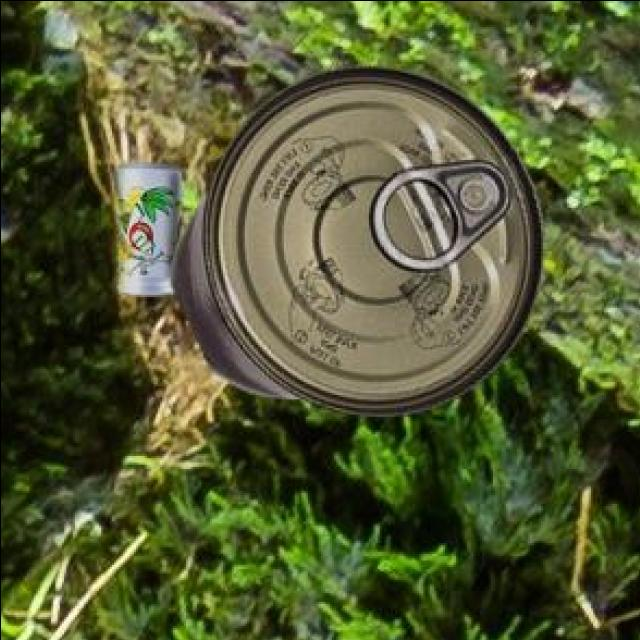logam: (167, 69, 539, 417), (112, 167, 177, 296)
